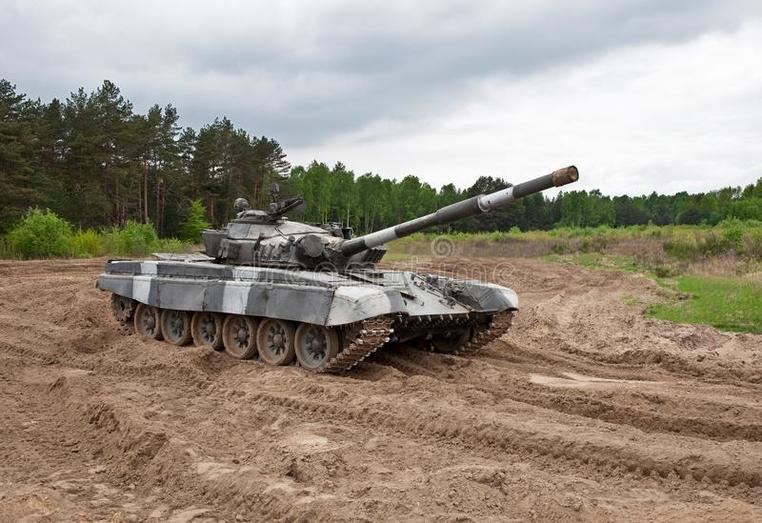t72: (99, 167, 589, 370)
